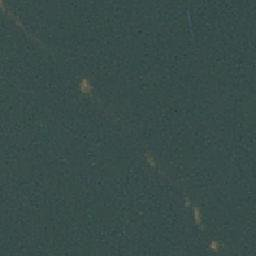debris: (80, 77, 95, 92), (192, 207, 202, 227), (209, 239, 220, 249)
